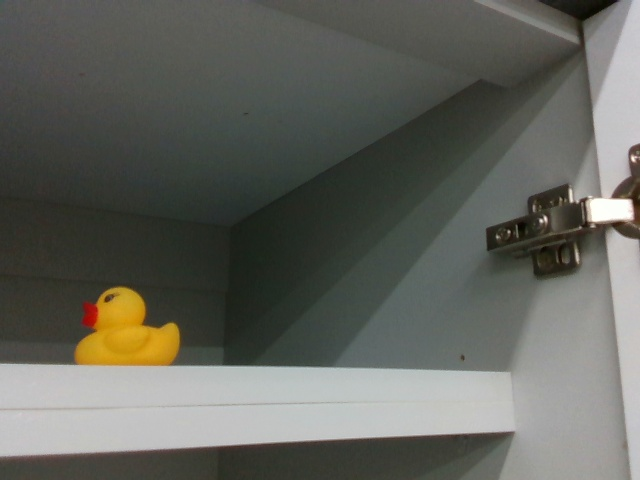duck: (65, 282, 186, 366)
